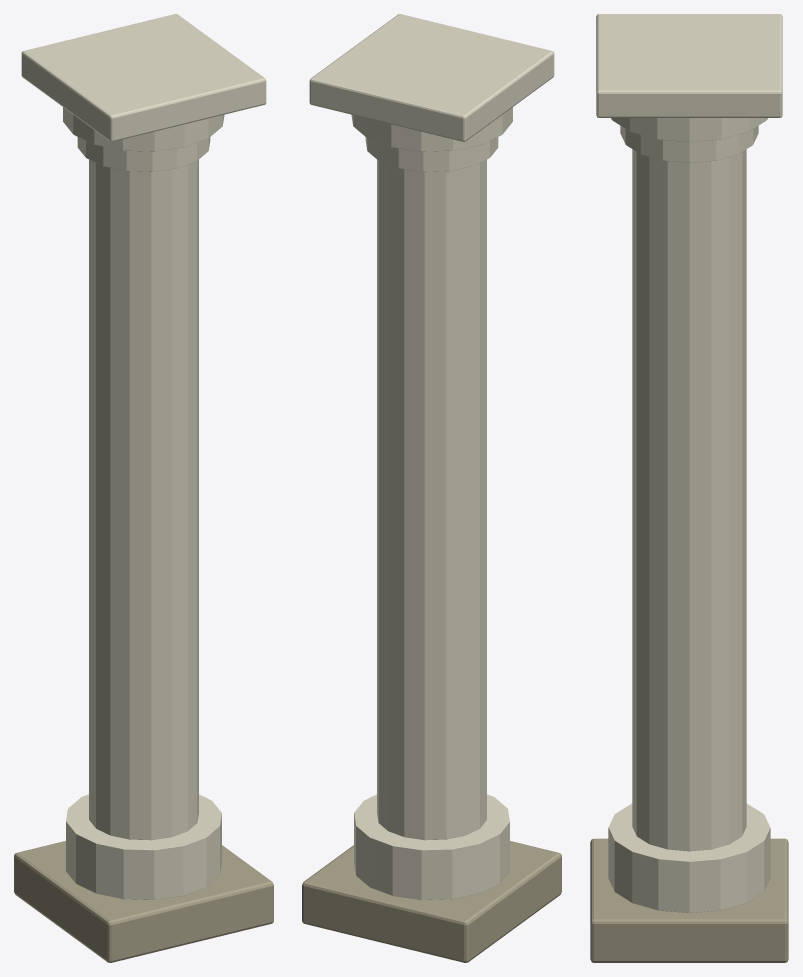
3 views of the same model, side by side, from view 1: azimuth 30°, elevation 25°; view 2: azimuth 150°, elevation 25°; view 3: azimuth 270°, elevation 25° (orthographic). The views are drawn at different scales.
Visible parts, largest first — view 1: COLUMN_RoundShaft, COLUMN_TopAbacus, COLUMN_Foot, COLUMN_Base, COLUMN_CapitalRing, COLUMN_CapitalRing.001; view 2: COLUMN_RoundShaft, COLUMN_TopAbacus, COLUMN_Foot, COLUMN_Base, COLUMN_CapitalRing, COLUMN_CapitalRing.001; view 3: COLUMN_RoundShaft, COLUMN_TopAbacus, COLUMN_Foot, COLUMN_Base, COLUMN_CapitalRing, COLUMN_CapitalRing.001.
Part boxes in pixels (x1,y1,x2,y2): COLUMN_RoundShaft: [89, 159, 198, 840]; COLUMN_TopAbacus: [21, 14, 266, 141]; COLUMN_Foot: [14, 841, 273, 962]; COLUMN_Base: [66, 794, 221, 899]; COLUMN_CapitalRing: [63, 107, 224, 151]; COLUMN_CapitalRing.001: [77, 137, 210, 171]; COLUMN_RoundShaft: [377, 159, 486, 840]; COLUMN_TopAbacus: [309, 14, 554, 141]; COLUMN_Foot: [302, 841, 561, 962]; COLUMN_Base: [354, 794, 509, 899]; COLUMN_CapitalRing: [351, 107, 512, 151]; COLUMN_CapitalRing.001: [365, 137, 498, 171]; COLUMN_RoundShaft: [632, 149, 746, 851]; COLUMN_TopAbacus: [596, 14, 782, 117]; COLUMN_Foot: [590, 838, 788, 962]; COLUMN_Base: [608, 803, 770, 912]; COLUMN_CapitalRing: [611, 118, 767, 141]; COLUMN_CapitalRing.001: [620, 126, 758, 162].
Size of the model in its own units: 0.66 by 3.2 by 0.66.
